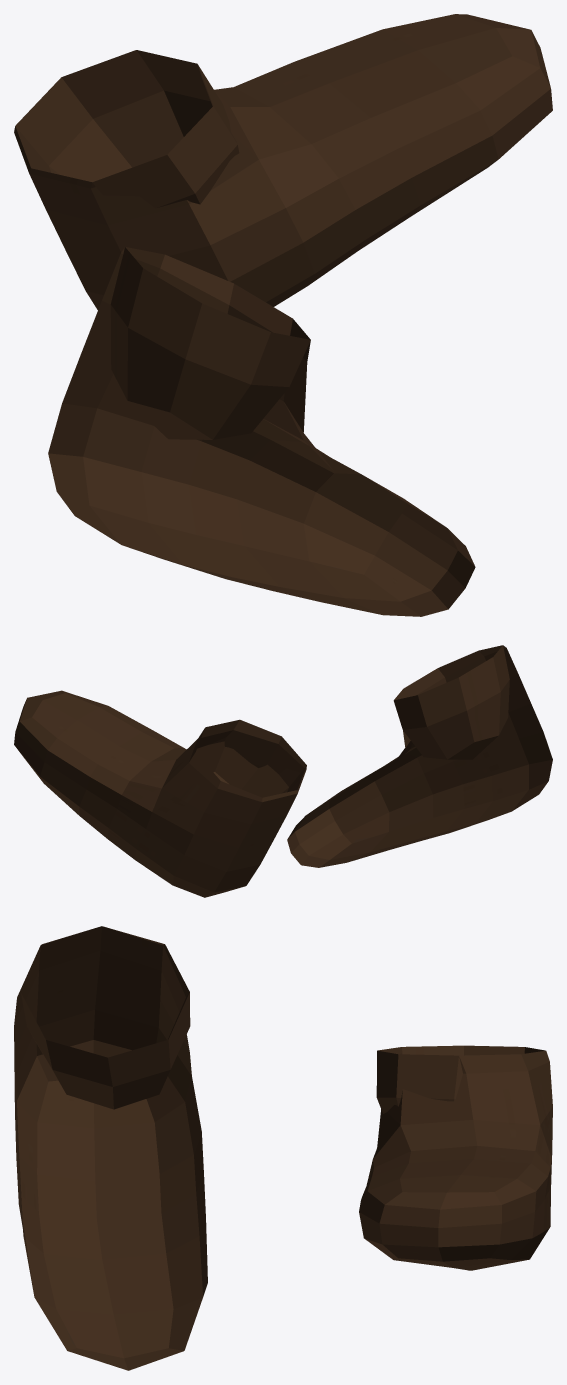
The model's file is Boots.fbx.
The picture shows the model from 3 angles, top to bottom: view 1: azimuth 30°, elevation 25°; view 2: azimuth 150°, elevation 25°; view 3: azimuth 270°, elevation 25°; orthographic projection. The views are drawn at different scales.
Visible parts, largest first — view 1: Cube.001; view 2: Cube.001; view 3: Cube.001.
Part boxes in pixels (<box>): Cube.001: <box>14,14,552,616</box>; Cube.001: <box>14,645,552,897</box>; Cube.001: <box>14,926,552,1370</box>.
Size of the model in its own units: 694 by 392 by 587.
